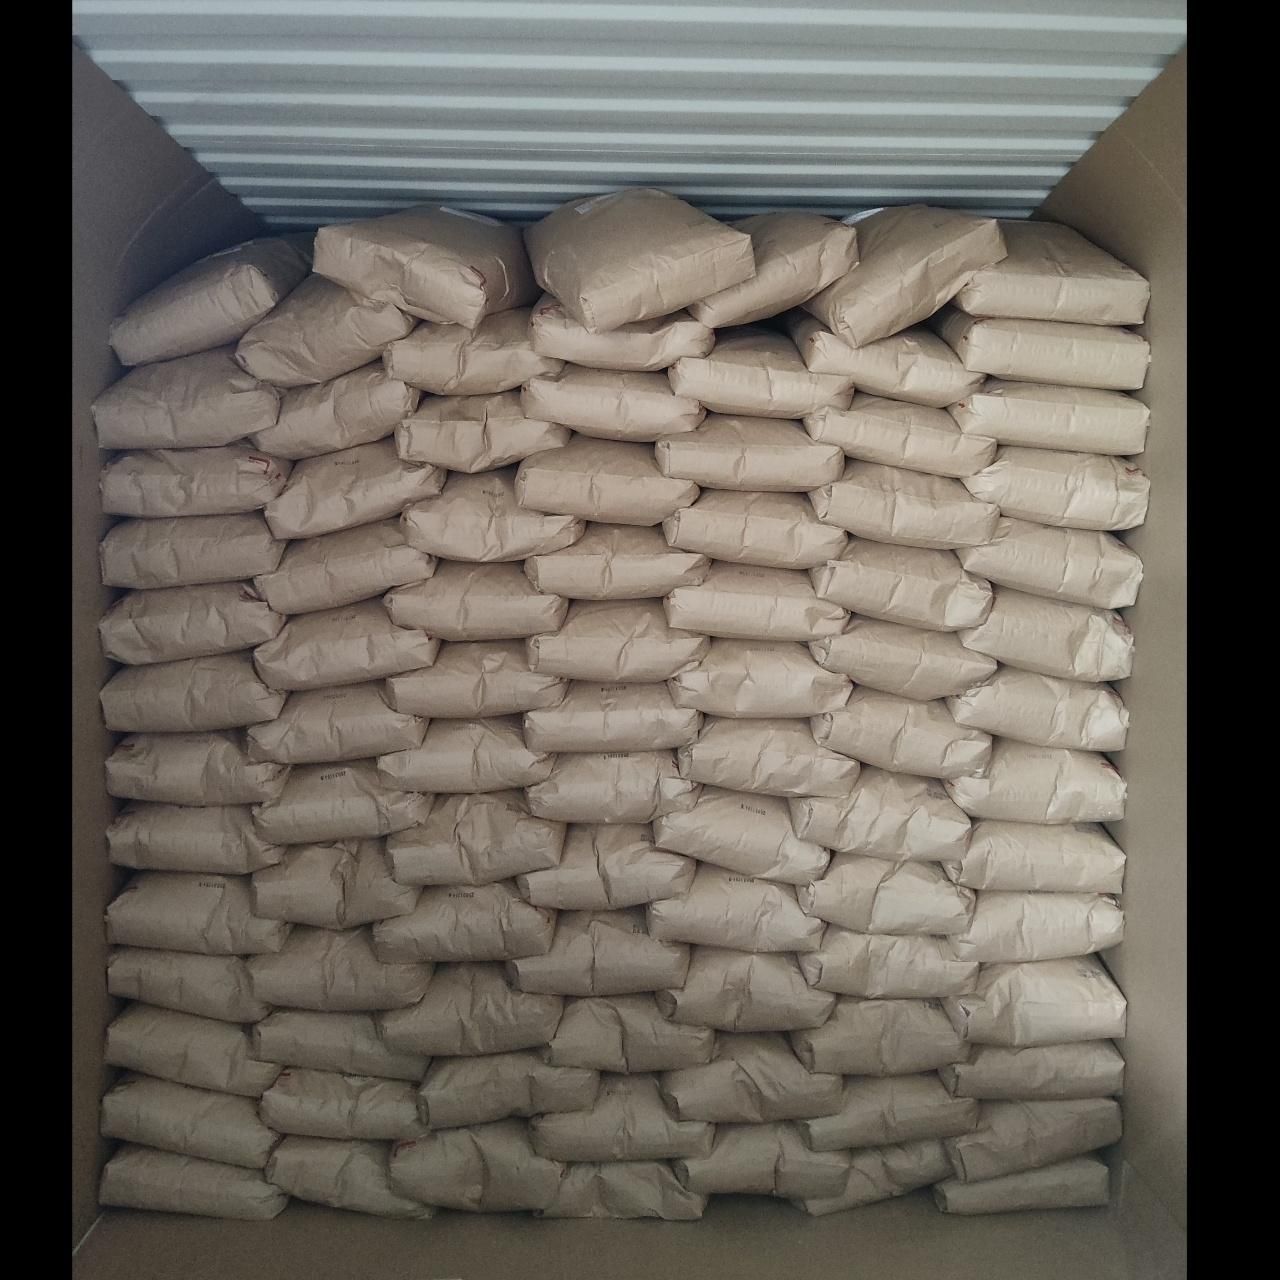sack: (525, 188, 754, 332), (806, 207, 1007, 347), (314, 205, 538, 327), (110, 237, 308, 365), (235, 273, 417, 387), (953, 221, 1149, 325), (92, 345, 283, 447), (689, 211, 857, 326), (788, 311, 981, 406), (931, 306, 1149, 390), (265, 437, 446, 537), (256, 517, 437, 615), (377, 963, 563, 1056), (402, 467, 584, 562), (652, 786, 828, 883), (668, 325, 853, 417), (254, 598, 439, 690), (941, 956, 1126, 1048), (790, 765, 969, 860), (386, 790, 565, 885), (957, 517, 1142, 608), (808, 460, 999, 548), (811, 686, 991, 778), (958, 587, 1132, 682), (252, 361, 422, 458), (515, 435, 698, 525), (810, 539, 992, 629), (505, 907, 689, 996), (660, 1033, 842, 1122), (246, 926, 434, 1011), (391, 1120, 566, 1211), (105, 1004, 278, 1096), (646, 863, 824, 952), (102, 1077, 276, 1168), (383, 307, 562, 395), (530, 1075, 713, 1161), (809, 616, 996, 700), (804, 394, 995, 476), (963, 446, 1147, 530), (944, 739, 1125, 824), (950, 378, 1149, 455), (101, 581, 285, 664), (946, 667, 1127, 751), (253, 760, 433, 844), (527, 599, 709, 682), (656, 947, 833, 1032), (252, 840, 421, 929), (106, 872, 289, 954), (101, 651, 286, 732), (518, 824, 695, 908), (248, 681, 428, 763), (383, 560, 567, 640), (663, 562, 849, 641), (667, 639, 853, 718), (394, 389, 571, 472), (373, 881, 555, 961), (944, 1099, 1121, 1181), (678, 717, 859, 797), (655, 415, 843, 492), (663, 490, 848, 568), (100, 511, 287, 588), (521, 363, 704, 441), (384, 640, 567, 718), (797, 852, 973, 933), (101, 443, 292, 517), (525, 523, 710, 599), (419, 1050, 598, 1128), (106, 730, 289, 806), (530, 295, 714, 370), (791, 997, 969, 1074), (267, 1135, 434, 1217), (797, 1074, 977, 1150), (100, 1146, 287, 1219), (941, 820, 1125, 894), (378, 716, 554, 792), (544, 995, 713, 1073), (672, 1124, 850, 1198), (800, 925, 979, 998), (524, 682, 702, 753), (107, 803, 285, 874), (946, 892, 1123, 963), (252, 1009, 428, 1080), (527, 751, 700, 822), (261, 1067, 427, 1139), (108, 948, 268, 1022), (939, 1040, 1123, 1101), (800, 1141, 946, 1215), (933, 1156, 1108, 1214), (542, 1163, 706, 1219)
